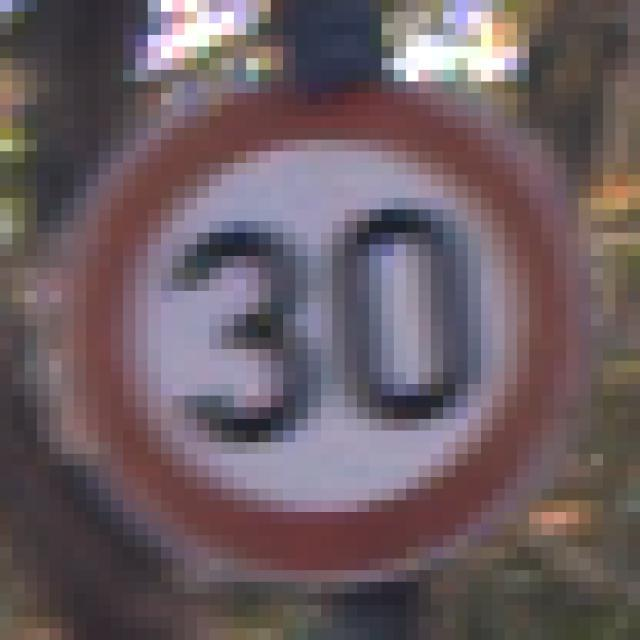Speed Limit -30-: (68, 58, 572, 570)
